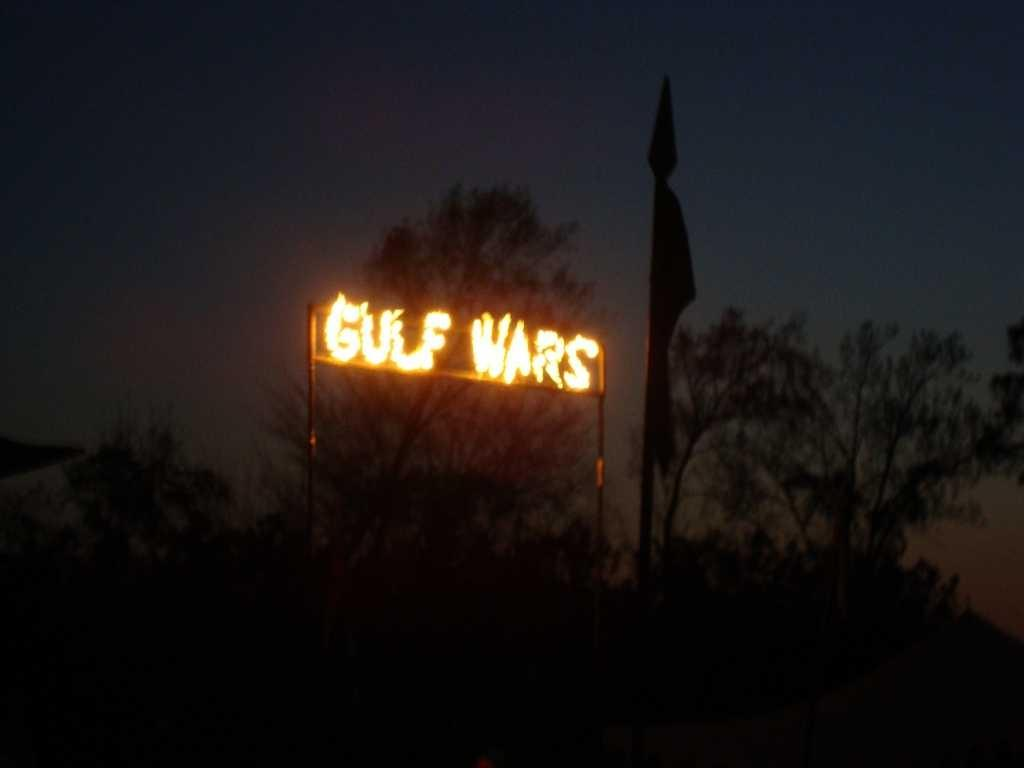fire: (324, 301, 613, 401)
